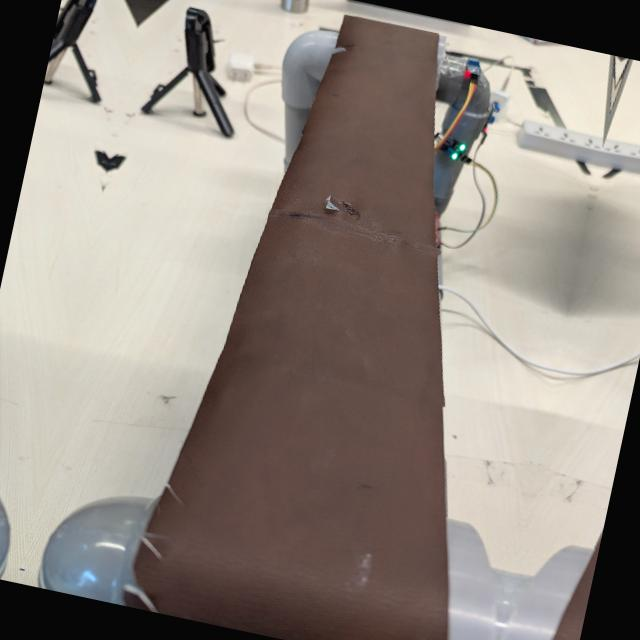joint_damage: (303, 181, 368, 228)
